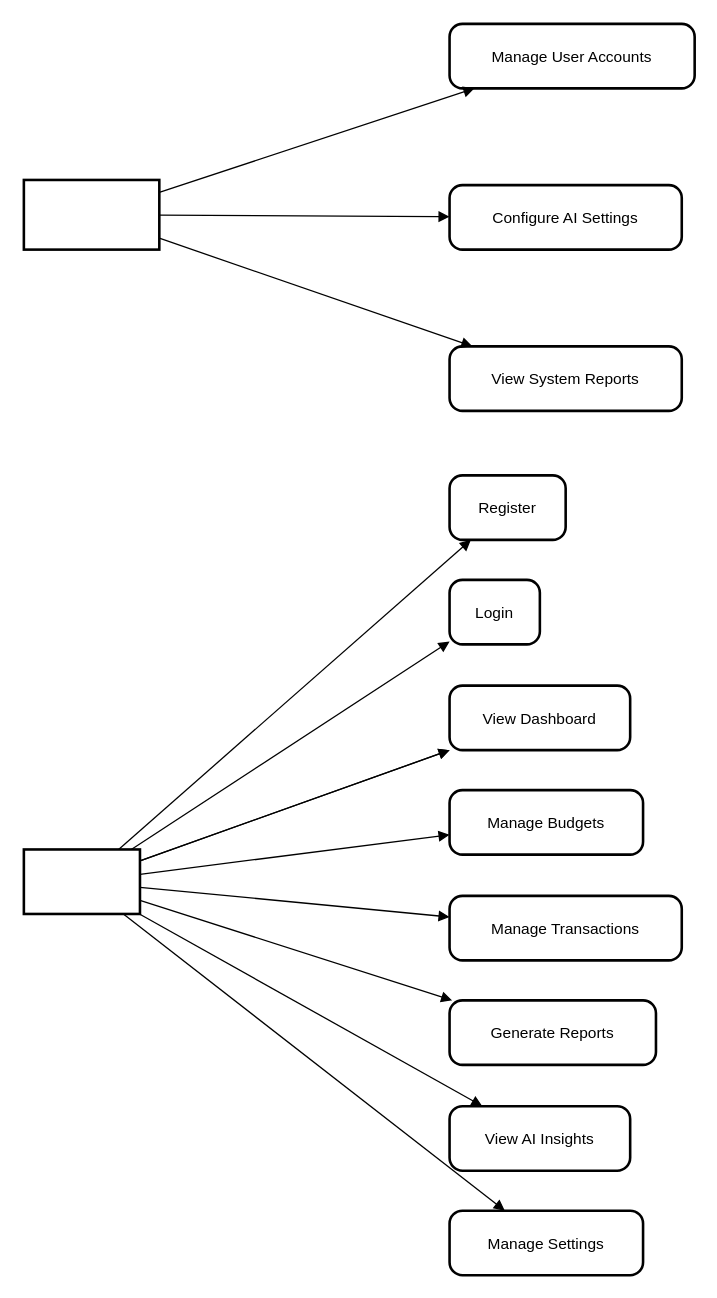
The diagram is 717 pixels wide and 1298 high, and some of its shapes have lost their labels. The centre of each missing label's shape, as x and y in pixels:
"Admin" goes at [91,214].
"User" goes at [81,881].
